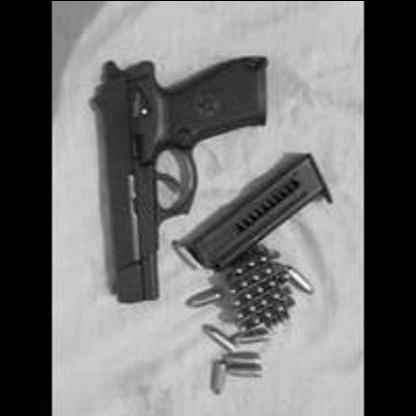weapon: (90, 54, 271, 312)
